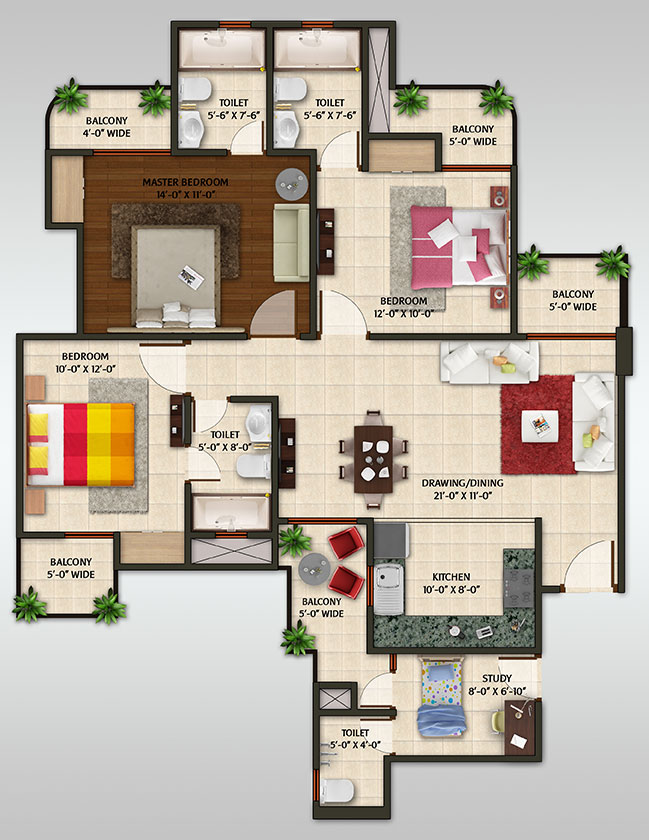door: (560, 534, 616, 583), (316, 283, 370, 333), (134, 342, 180, 398), (191, 443, 228, 485), (190, 401, 235, 434)
room: (76, 147, 315, 338), (15, 333, 191, 537), (308, 162, 510, 338), (365, 517, 543, 654), (265, 19, 369, 153), (172, 21, 273, 155), (184, 396, 278, 537), (512, 255, 628, 341), (15, 531, 118, 617)
